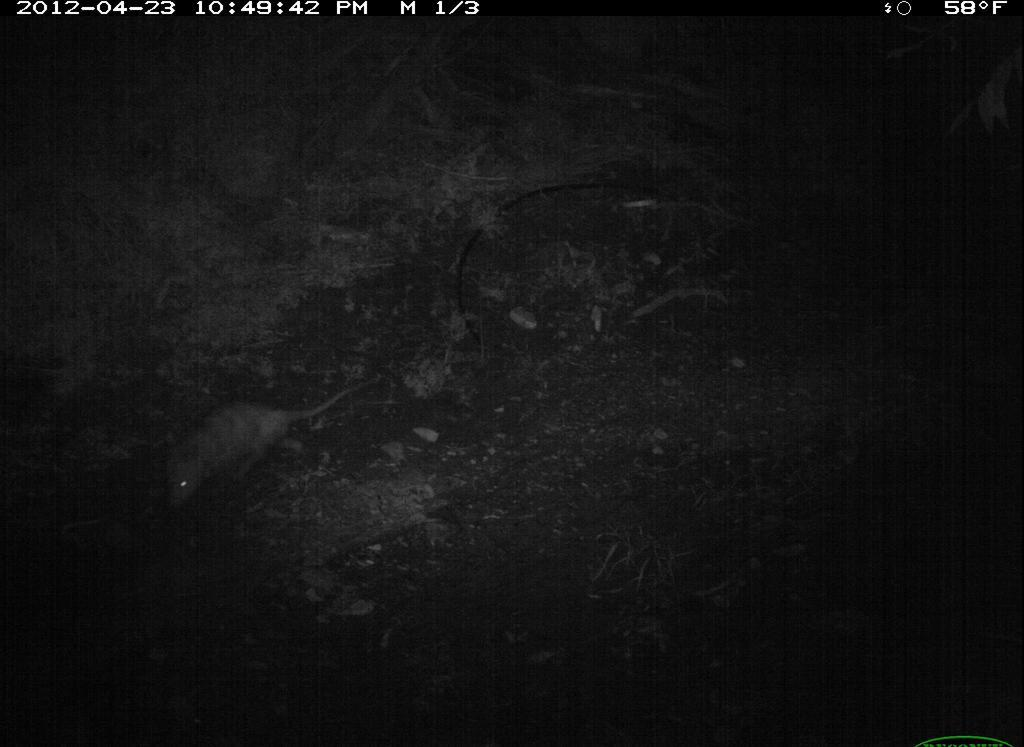opossum: (132, 388, 386, 529)
